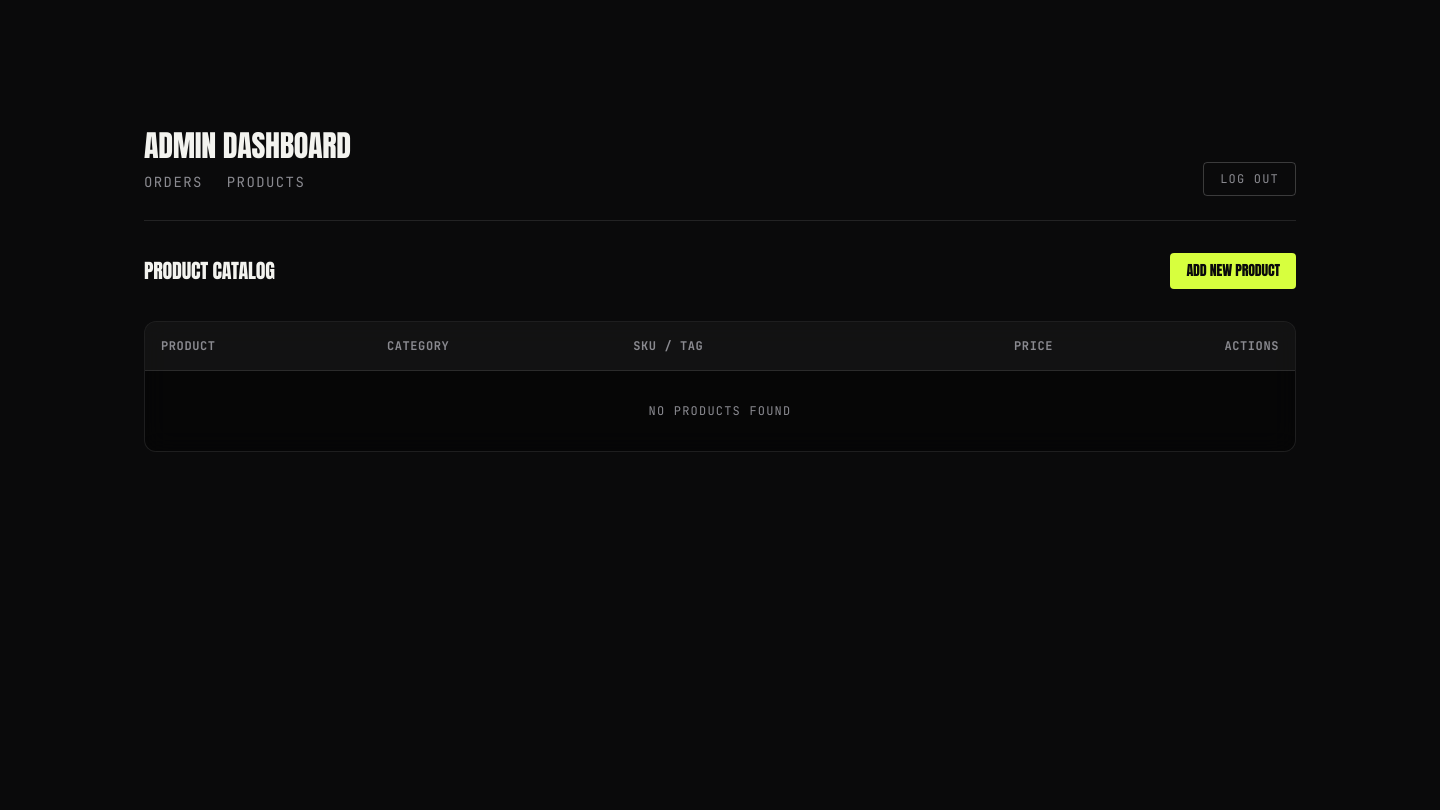
it: save errors › surfaces the field names from a Zod validation failure
Click the button "Add New Product". click: coordinates (1233, 271)
box: [1170,253,1296,289]
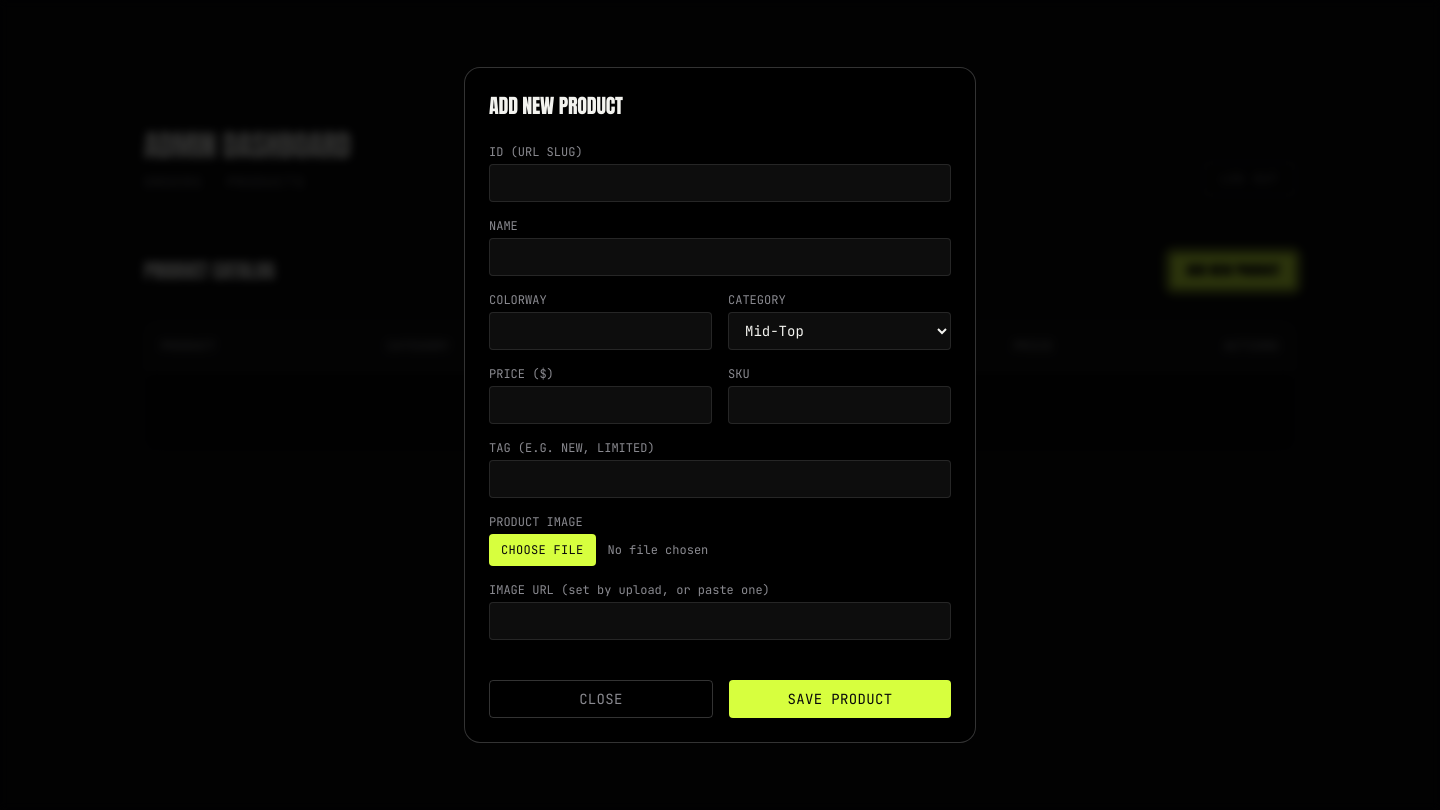
Type "x" into the field labelled "ID (URL slug)". click: coordinates (720, 183)
box: [489,164,951,202]
Type "X" into the field labelled "Name". click: coordinates (720, 257)
box: [489,238,951,276]
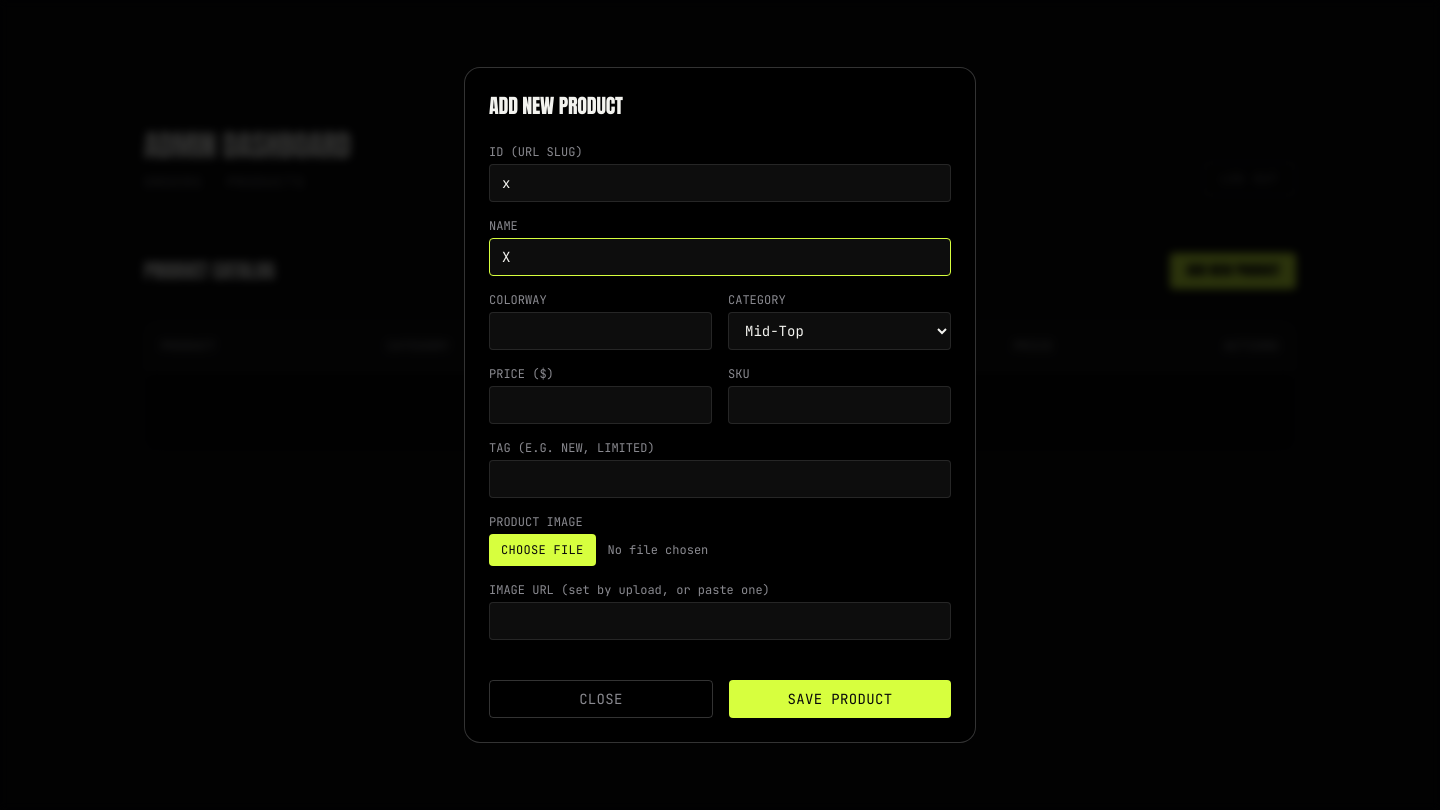
Type "1" into the number field labelled "Price ($)". click: coordinates (600, 405)
box: [489,386,712,424]
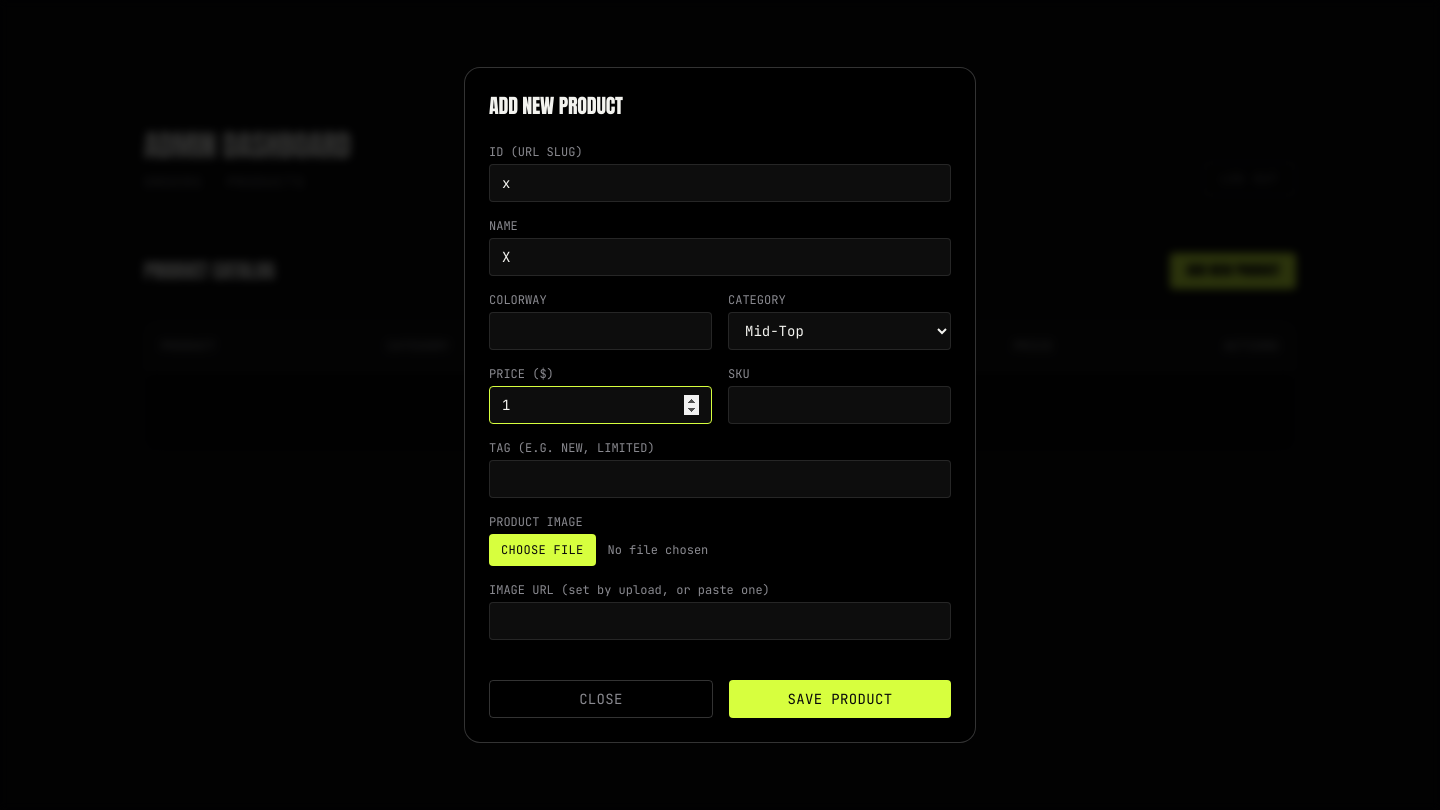
Type "X-1" into the field labelled "SKU". click: coordinates (840, 405)
box: [728,386,951,424]
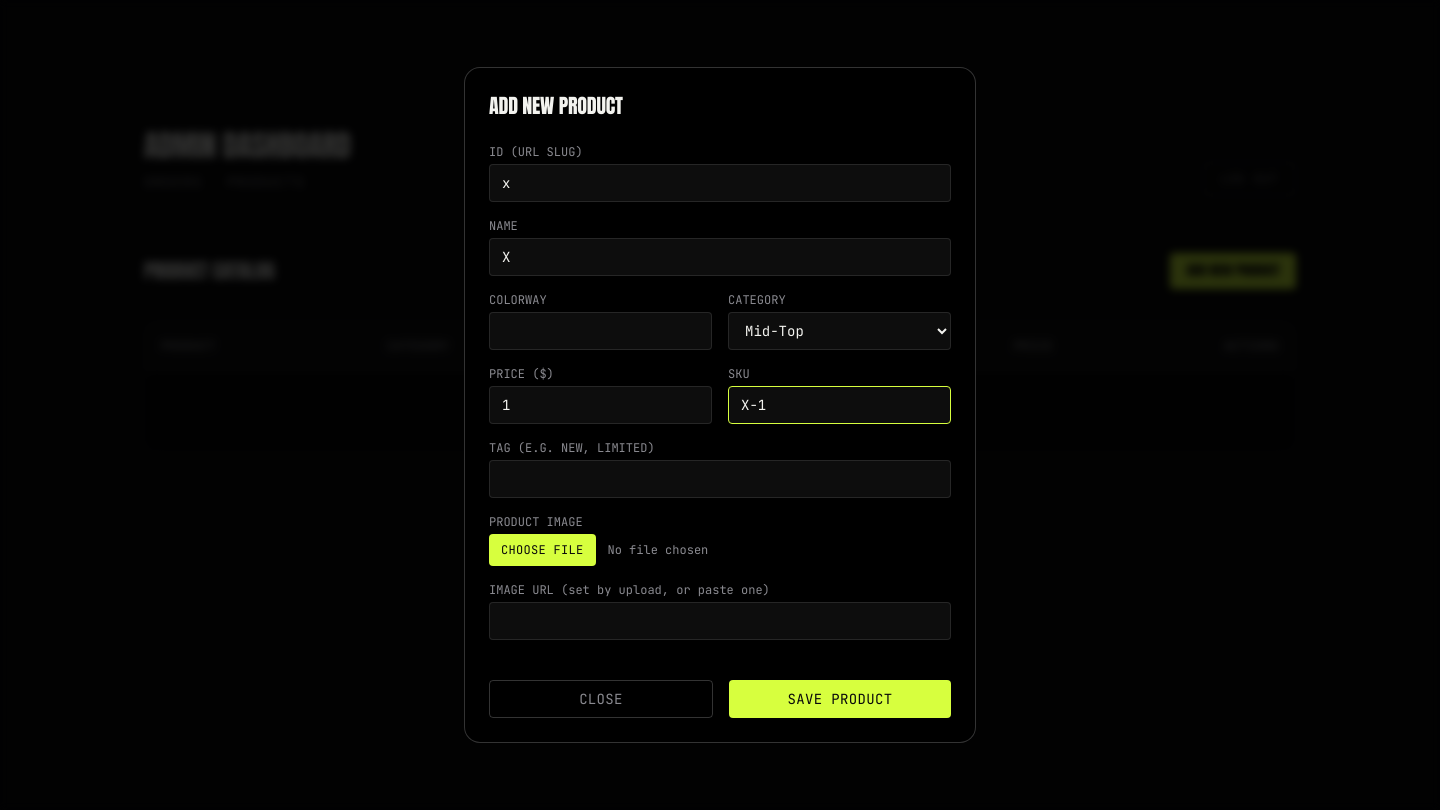
Type "https://example.com/x.png" into the field labelled "Image URL (set by upload, or paste one)". click: coordinates (720, 621)
box: [489,602,951,640]
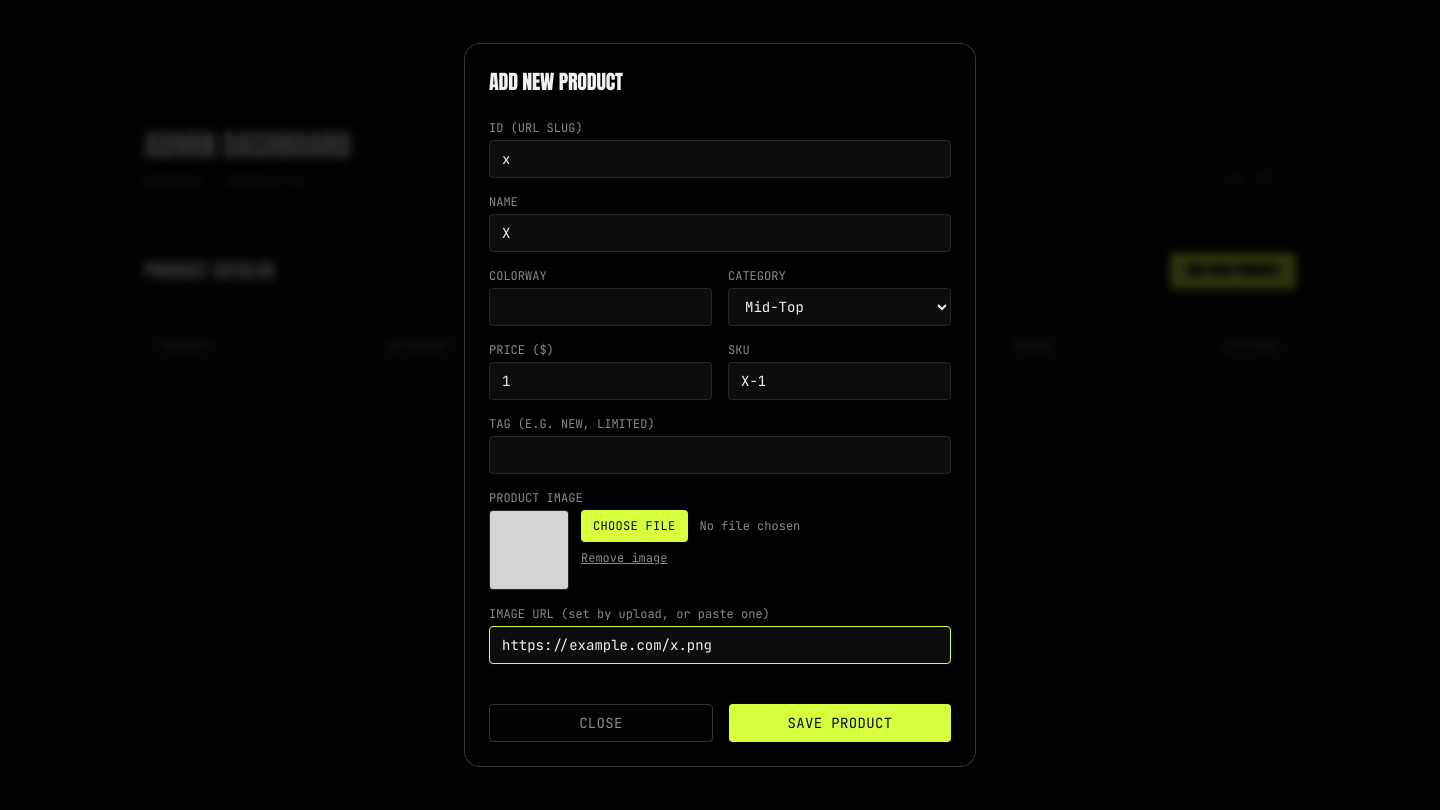
Click the button "Save Product". click: coordinates (840, 723)
box: [729,704,951,742]
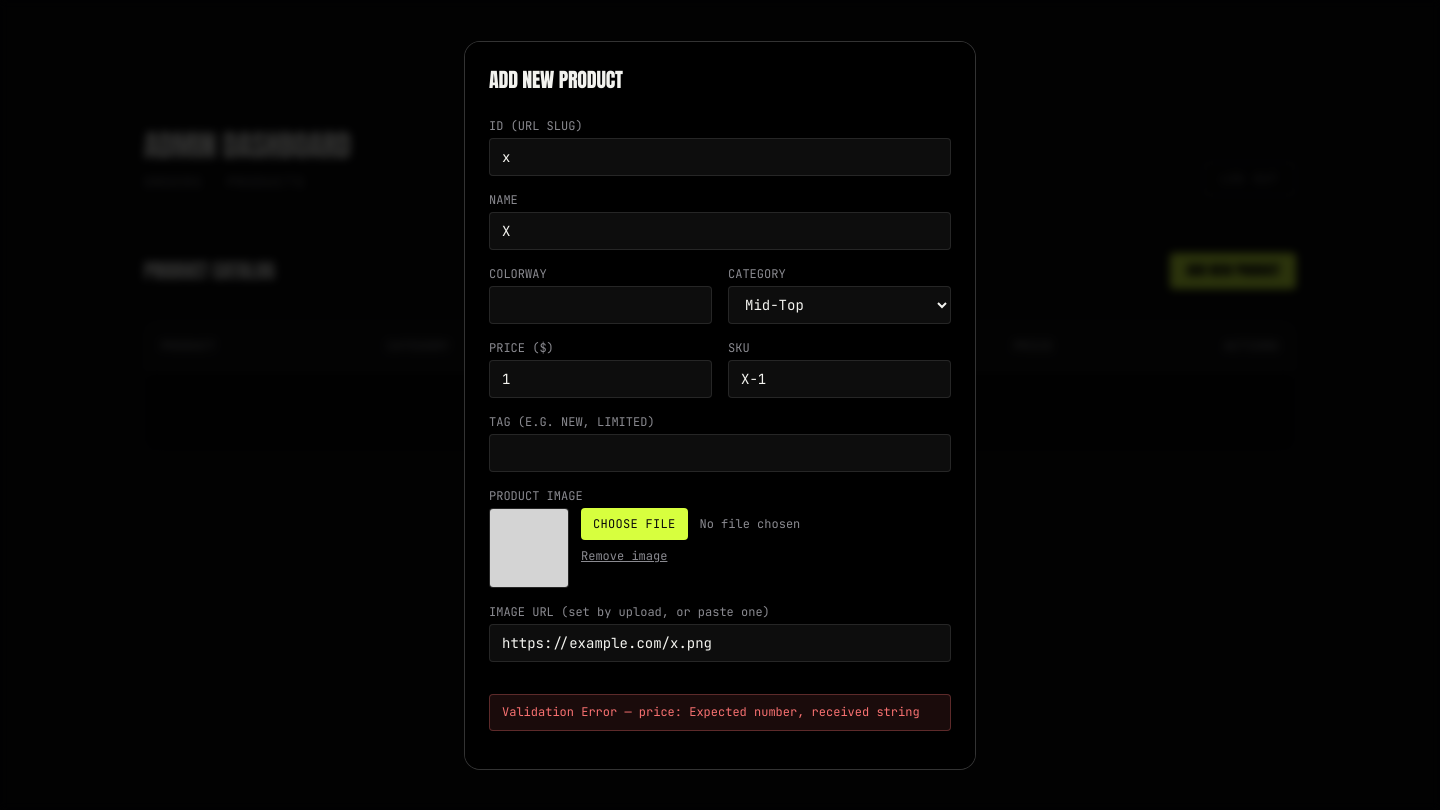
Expected: the heading "Add New Product" is shown, [489,64,623,94]
Expected: the message reads "Validation Error — price: Expected number, received string", [502,704,920,720]
